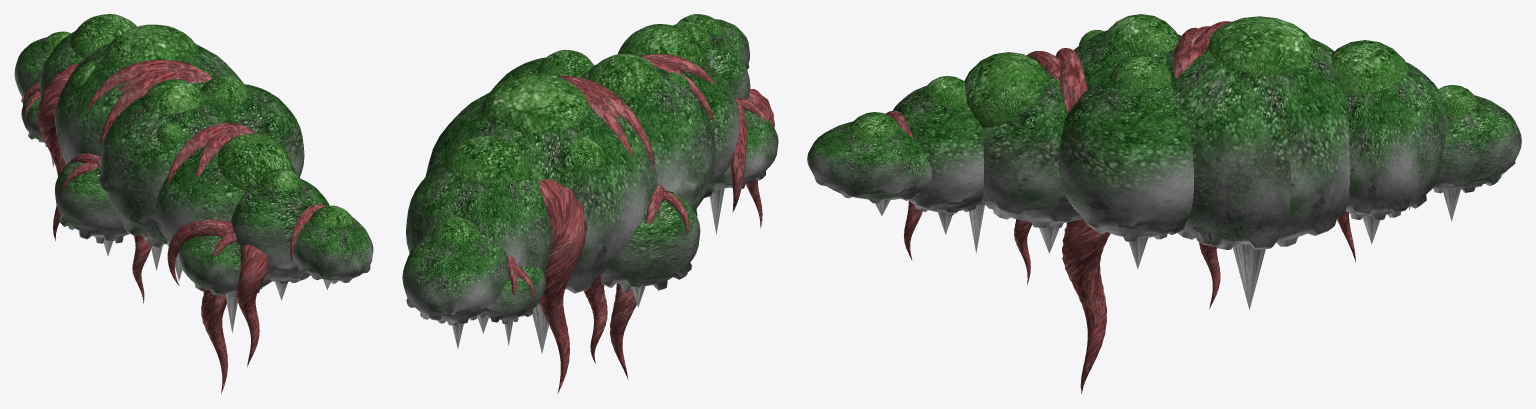
Rendered from RockFormation.fbx.
The picture shows the model from 3 angles, left to right: view 1: azimuth 30°, elevation 25°; view 2: azimuth 150°, elevation 25°; view 3: azimuth 270°, elevation 25°; orthographic projection. The views are drawn at different scales.
Visible parts, largest first — view 1: pSphere4, pSphere2, pSphere6, pSphere5, pSphere7, pSphere9, pSphere8, pSphere3, pSphere16, pSphere13, pCone4, pCone3 (+22 smaller); view 2: pSphere2, pSphere1, pSphere10, pSphere4, pSphere9, pSphere13, pCone3, pSphere14, pSphere5, pSphere8, pSphere12, pSphere16 (+19 smaller); view 3: pSphere2, pSphere3, pSphere1, pSphere5, pSphere6, pSphere7, pSphere10, pSphere13, pSphere16, pCone5, pSphere14, pSphere12 (+8 smaller).
Part boxes in pixels (box(x1,y1,x2,y2)): pSphere4: box(98, 90, 237, 280); pSphere2: box(55, 42, 243, 270); pSphere6: box(231, 179, 329, 300); pSphere5: box(155, 145, 297, 254); pSphere7: box(292, 217, 373, 289); pSphere9: box(54, 161, 129, 255); pSphere8: box(179, 235, 271, 332); pSphere3: box(229, 84, 304, 176); pSphere16: box(217, 133, 292, 191); pSphere13: box(105, 24, 198, 67); pCone4: box(236, 244, 268, 367); pCone3: box(37, 63, 78, 240); pSphere2: box(425, 92, 657, 353); pSphere1: box(406, 161, 551, 333); pSphere10: box(402, 232, 509, 348); pSphere4: box(580, 64, 715, 216); pSphere9: box(600, 190, 700, 307); pSphere13: box(481, 73, 590, 133); pCone3: box(537, 178, 587, 393); pSphere14: box(444, 135, 532, 183); pSphere5: box(680, 64, 739, 183); pSphere8: box(709, 109, 778, 234); pSphere12: box(588, 53, 662, 97); pSphere16: box(618, 24, 708, 65); pSphere2: box(1165, 38, 1350, 309); pSphere3: box(1058, 78, 1193, 269); pSphere1: box(1345, 62, 1446, 244); pSphere5: box(981, 72, 1083, 253); pSphere6: box(892, 86, 983, 234); pSphere7: box(807, 121, 931, 215); pSphere10: box(1433, 95, 1521, 221); pSphere13: box(1208, 16, 1317, 75); pSphere16: box(964, 52, 1046, 127); pCone5: box(1062, 219, 1110, 393); pSphere14: box(1331, 40, 1408, 95); pSphere12: box(1103, 14, 1179, 54).
Size of the model in its own units: 3.54 by 5.11 by 8.82.
